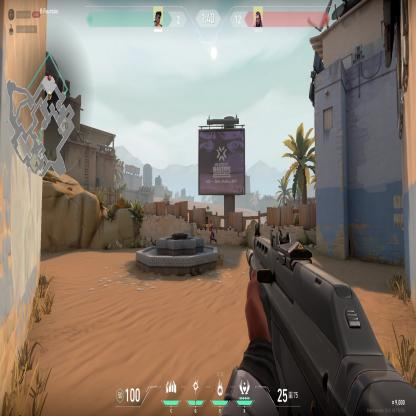enemy: (205, 220, 217, 244)
